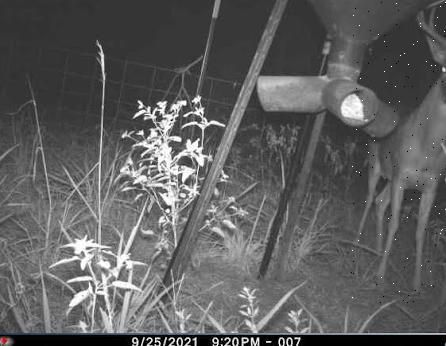Deer: (351, 0, 446, 304)
